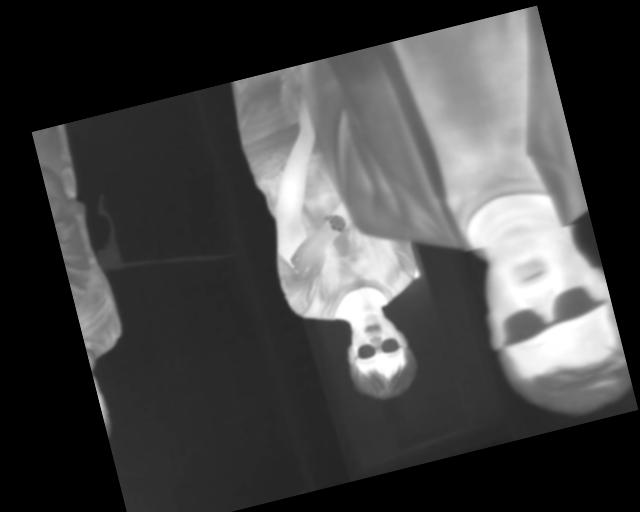face: (464, 212, 636, 434), (336, 303, 423, 407)
